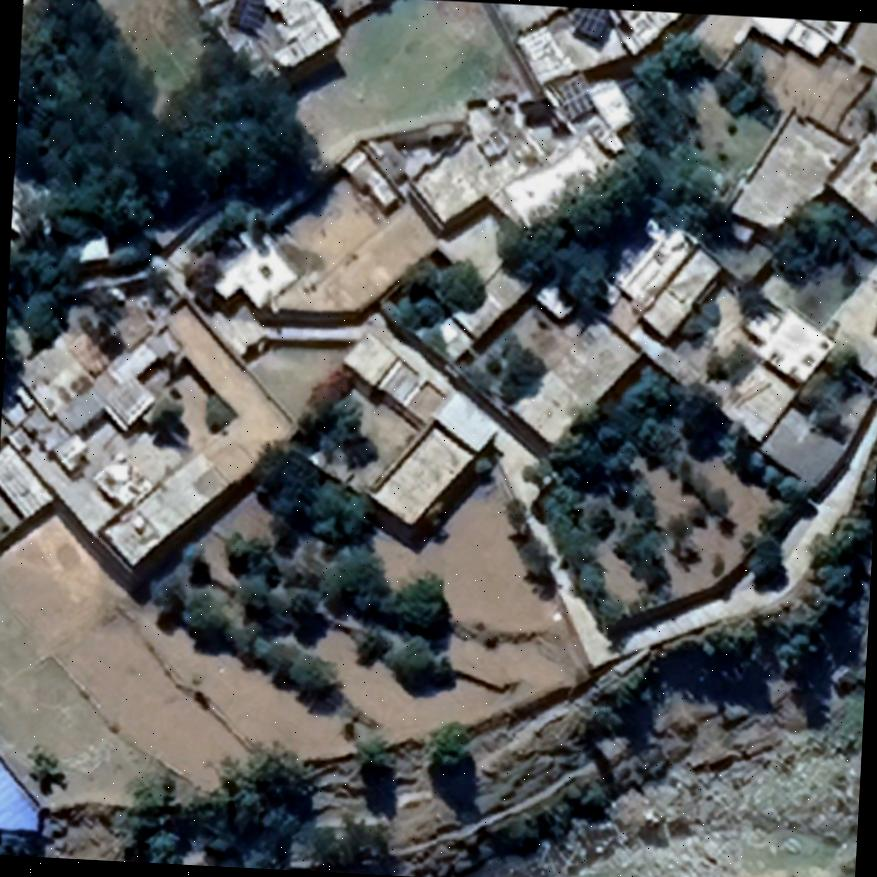Solarpanel: (548, 74, 593, 120), (226, 0, 268, 33), (569, 6, 611, 38)
